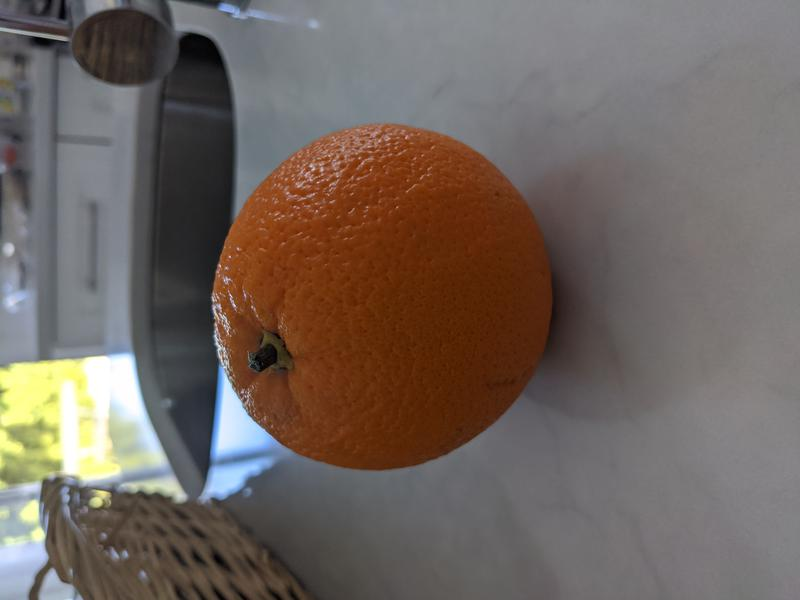orange: (209, 124, 555, 471)
